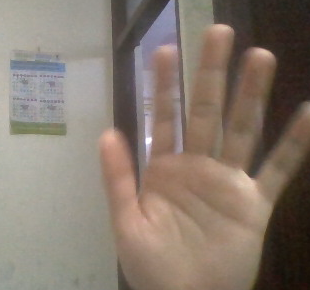move: (100, 34, 305, 290)
